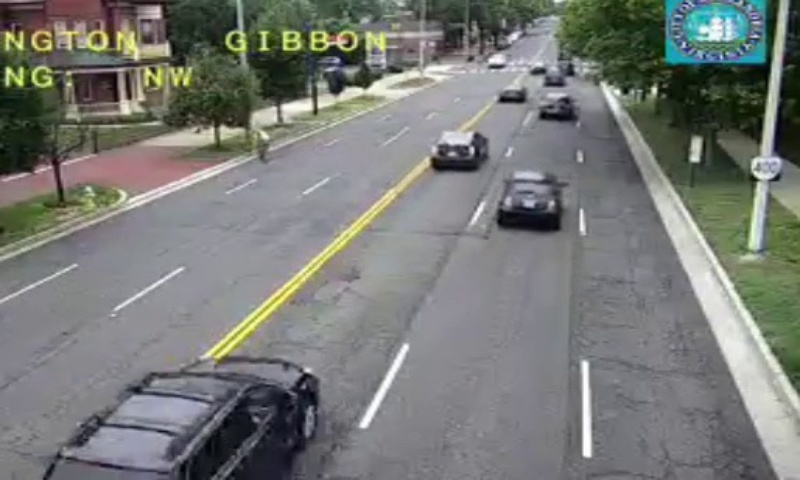car: (43, 357, 317, 480), (498, 171, 560, 220), (431, 131, 487, 168), (538, 93, 575, 119)
